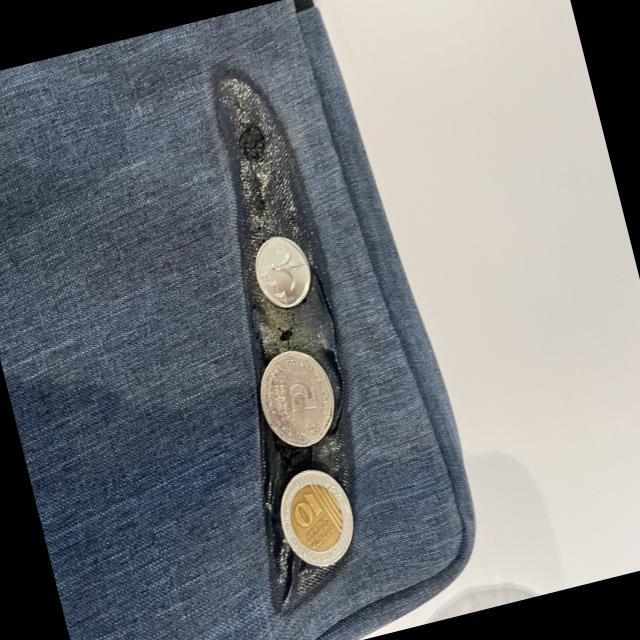1-shekel: (248, 235, 320, 307)
10-shekel: (266, 462, 368, 580)
5-shekel: (250, 342, 348, 457)
